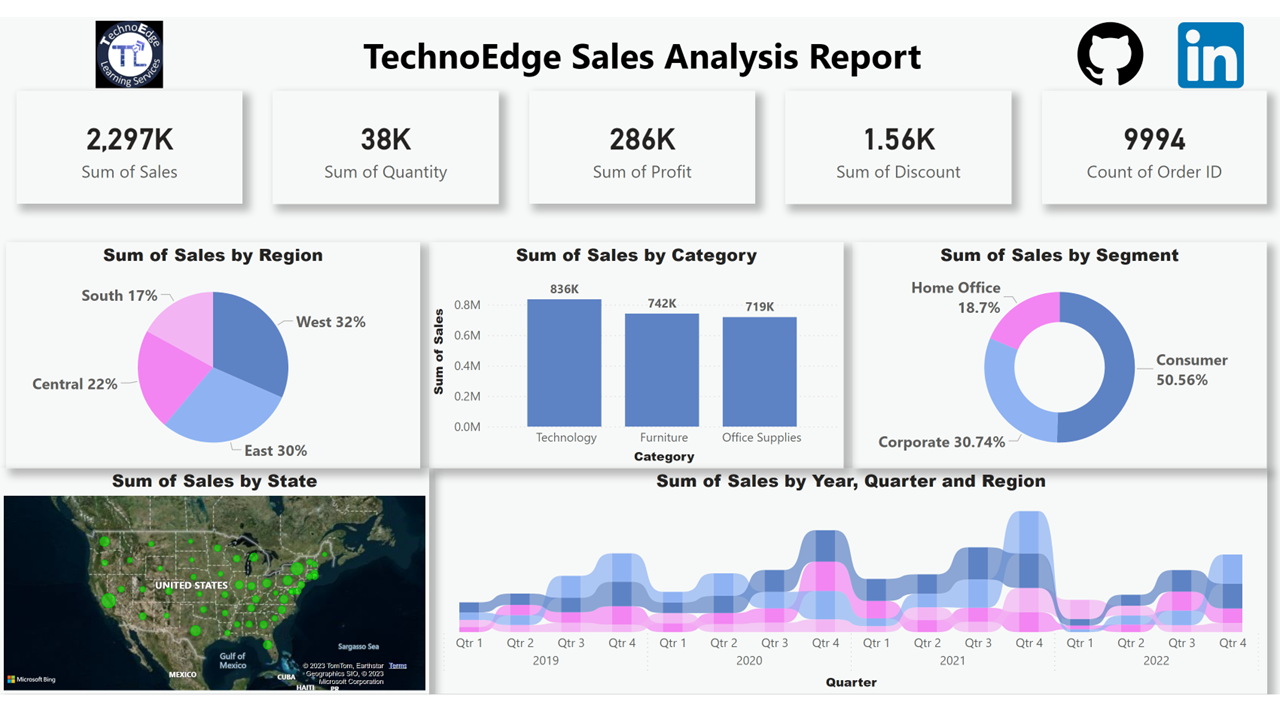

This screenshot's page, from the dashboard's own definition file:
{"tool":"powerbi","page":{"name":"Page 1","canvas":[1700,900],"ordinal":0},"visuals":[{"type":"pieChart","fields":{"Category":["Combined Data.Region"],"Y":["Sum(Combined Data.Sales)"]},"box":[7.8,298.7,550,300.7],"z":0},{"type":"clusteredColumnChart","fields":{"Category":["Combined Data.Category"],"Y":["Sum(Combined Data.Sales)"]},"box":[569.8,298.7,550.5,300.7],"z":1000},{"type":"ribbonChart","fields":{"Category":["Combined Data.Order Date.Variation.Date Hierarchy.Year","Combined Data.Order Date.Variation.Date Hierarchy.Quarter","Combined Data.Order Date.Variation.Date Hierarchy.Month","Combined Data.Order Date.Variation.Date Hierarchy.Day"],"Y":["Sum(Combined Data.Sales)"],"Series":["Combined Data.Region"]},"box":[577.9,599.3,1105,300.7],"z":2000},{"type":"donutChart","fields":{"Category":["Combined Data.Segment"],"Y":["Sum(Combined Data.Sales)"]},"box":[1132.3,298.7,550.5,300.7],"z":3000},{"type":"map","fields":{"Category":["Combined Data.State"],"Size":["Sum(Combined Data.Sales)"]},"box":[0,599.3,570.1,300.7],"z":4000},{"type":"card","fields":{"Values":["Sum(Combined Data.Sales)"]},"box":[22.1,98.5,300,150],"z":5000},{"type":"card","fields":{"Values":["Sum(Combined Data.Quantity)"]},"box":[362.1,98.5,300.7,150.3],"z":6000},{"type":"card","fields":{"Values":["CountNonNull(Combined Data.Order ID)"]},"box":[1383.5,98.5,298.7,150.3],"z":7000},{"type":"card","fields":{"Values":["Sum(Combined Data.Discount)"]},"box":[1042.8,98.5,300.7,150.3],"z":8000},{"type":"card","fields":{"Values":["Sum(Combined Data.Profit)"]},"box":[702.8,98.5,300,150],"z":9000},{"type":"actionButton","box":[363.1,0,980,97.6],"z":10000},{"type":"image","box":[76.1,0,191.3,99.6],"z":11000},{"type":"image","box":[1534.5,2,148.4,97.6],"z":12000},{"type":"image","box":[1407.6,0,132.8,97.6],"z":13000}]}

Visuals, with their boxes on the page's 1700x900 design canvas (x1, y1, x2, y2). These are canvas units, not pixel positions in the 1280x720 screenshot, which may show the page scaled, cropped or inside an application window:
pieChart - Combined Data.Region x Sum(Combined Data.Sales): box(8, 299, 558, 599)
clusteredColumnChart - Combined Data.Category x Sum(Combined Data.Sales): box(570, 299, 1120, 599)
ribbonChart - Combined Data.Order Date.Variation.Date Hierarchy.Year x Combined Data.Order Date.Variation.Date Hierarchy.Quarter: box(578, 599, 1683, 900)
donutChart - Combined Data.Segment x Sum(Combined Data.Sales): box(1132, 299, 1683, 599)
map - Combined Data.State x Sum(Combined Data.Sales): box(0, 599, 570, 900)
card - Sum(Combined Data.Sales): box(22, 98, 322, 248)
card - Sum(Combined Data.Quantity): box(362, 98, 663, 249)
card - CountNonNull(Combined Data.Order ID): box(1384, 98, 1682, 249)
card - Sum(Combined Data.Discount): box(1043, 98, 1344, 249)
card - Sum(Combined Data.Profit): box(703, 98, 1003, 248)
actionButton: box(363, 0, 1343, 98)
image: box(76, 0, 267, 100)
image: box(1534, 2, 1683, 100)
image: box(1408, 0, 1540, 98)
